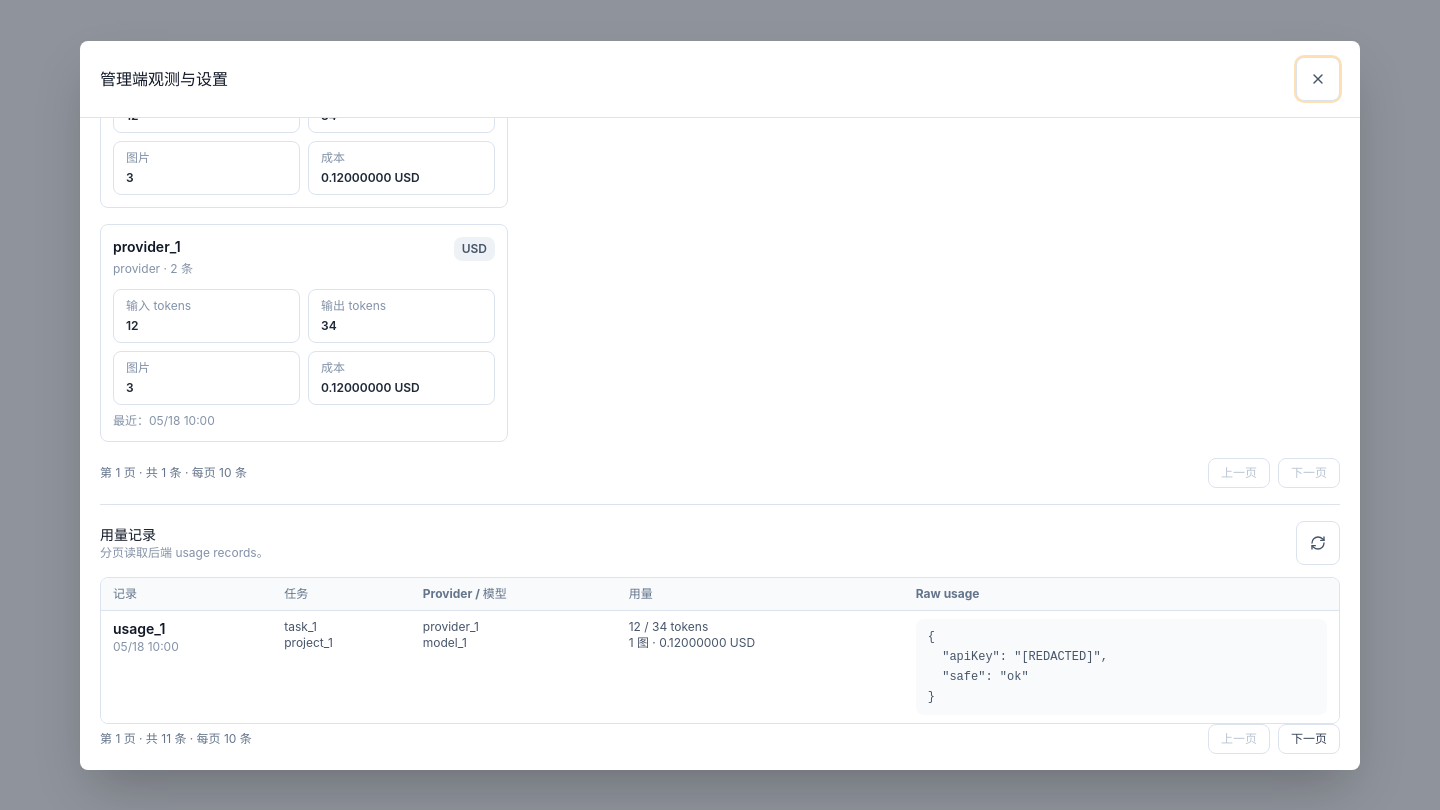
AdminObservabilitySettingsPanel › shows usage errors and preserves paginated navigation state
(page scrolled)
Expected: the text "usage_1" is shown, [113,620,165,636]
Expected: the text "{ \"apiKey\": \"[REDACTED]\", \"safe\": \"ok\" }" is shown, [916,618,1327,714]
Click the button "下一页" in the row of "11" at (1309, 738), box [1278,724,1340,754]
(page scrolled)
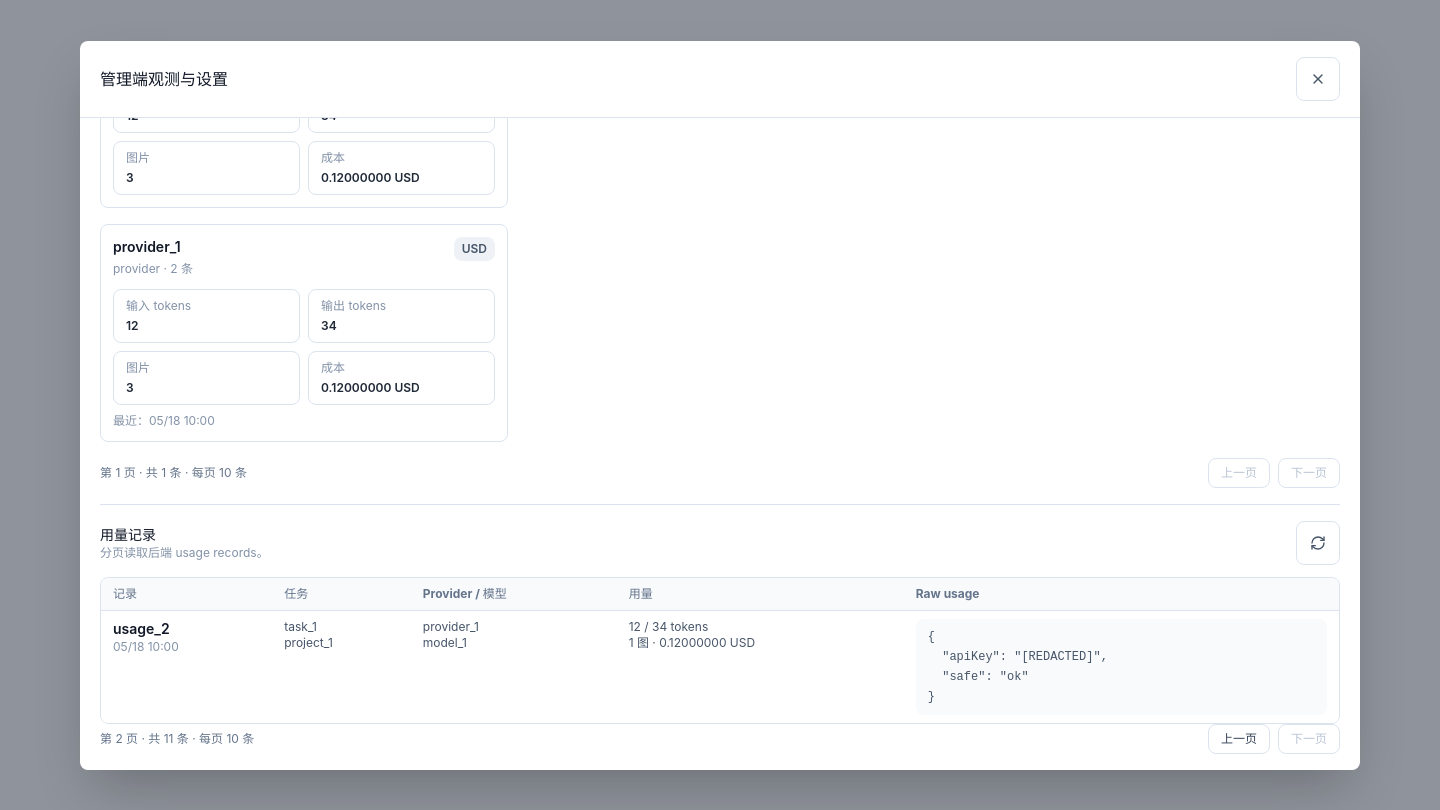
Expected: the text "usage_2" is shown, [113,620,170,636]
